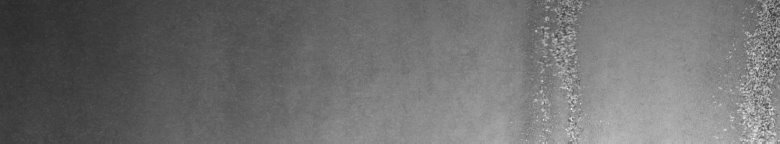hc: (724, 4, 776, 136)
